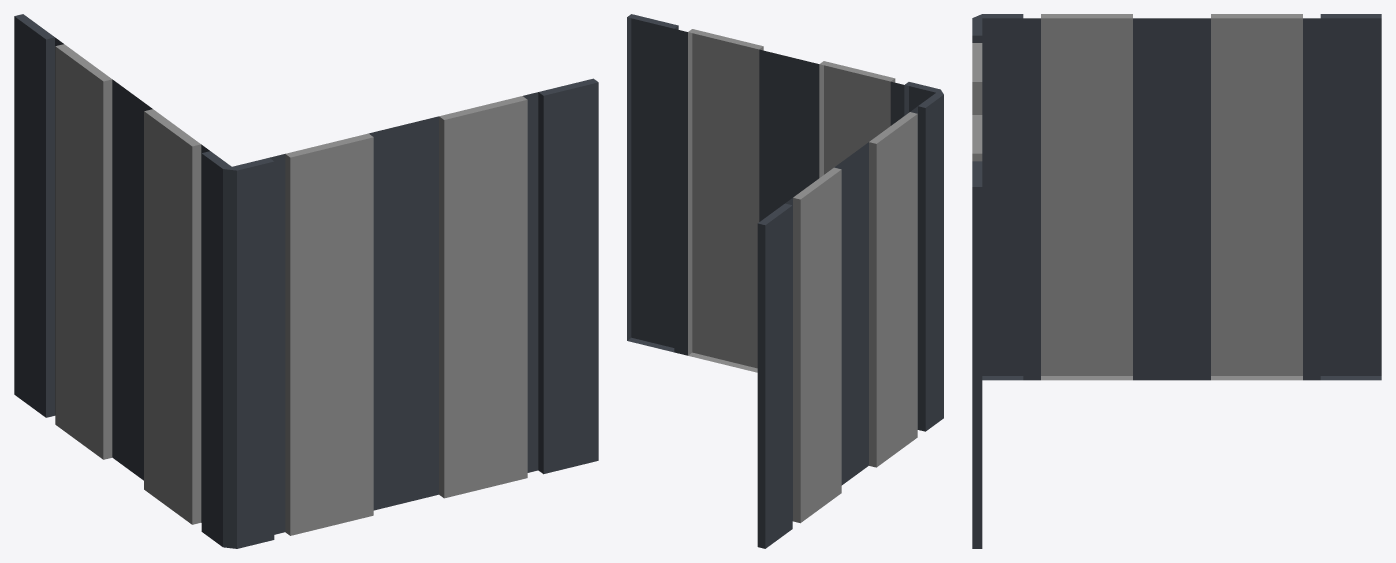
The model's file is Wall_12_Corner.FBX.
The picture shows the model from 3 angles, left to right: view 1: azimuth 30°, elevation 25°; view 2: azimuth 150°, elevation 25°; view 3: azimuth 270°, elevation 25°; orthographic projection. The views are drawn at different scales.
Parts seen in each view (by area): view 1: Wall_12_Corner_LOD0; view 2: Wall_12_Corner_LOD0; view 3: Wall_12_Corner_LOD0.
Part boxes in pixels (x1,y1,x2,y2): Wall_12_Corner_LOD0: (14,14,598,548); Wall_12_Corner_LOD0: (627,14,943,548); Wall_12_Corner_LOD0: (972,14,1381,548).
Size of what is drawn, in the model's own units: 184 by 180 by 184.
